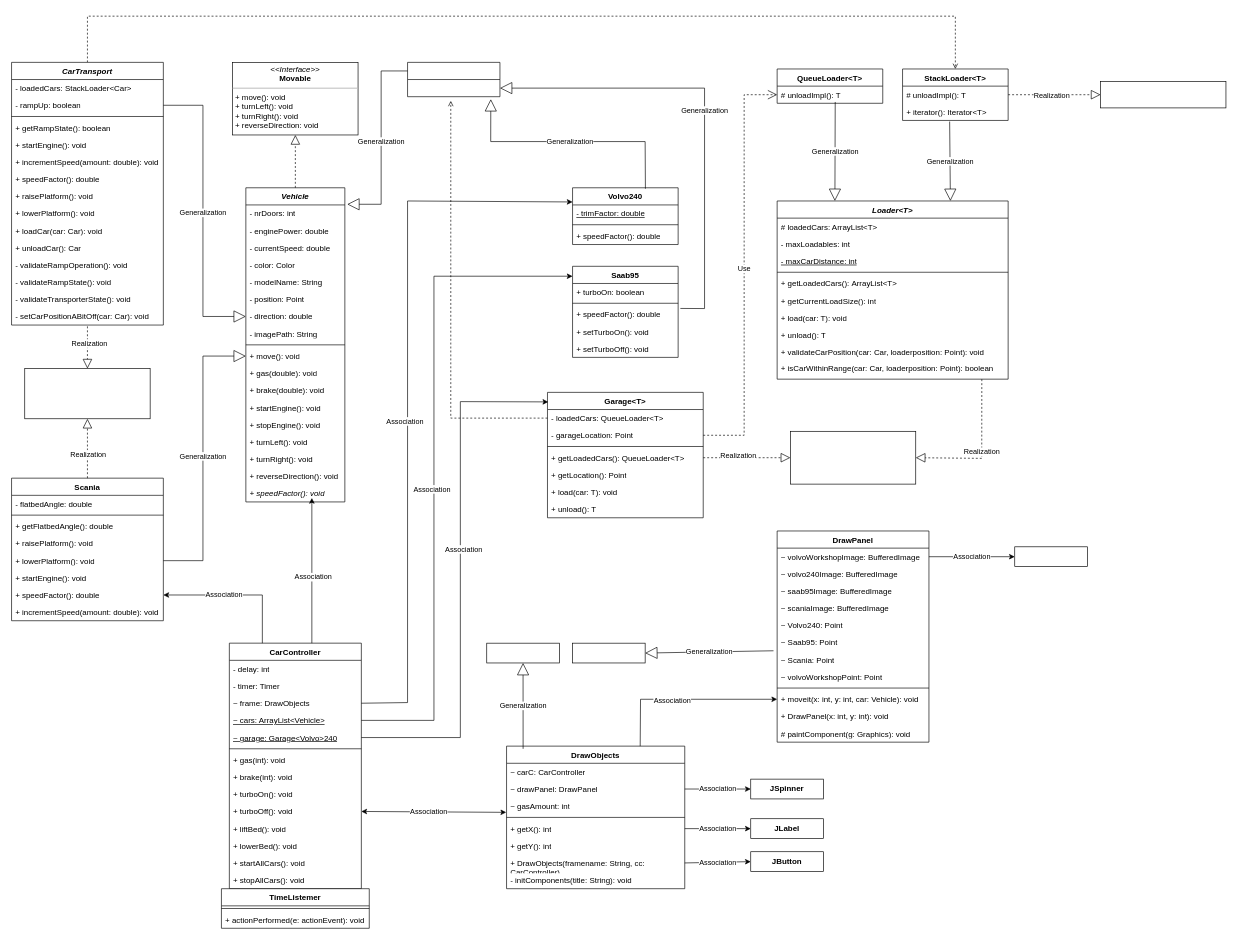
This 1238x942 diagram has some shape labels left out. The shapes that lost their labels are listed below. From the top down, each one's centre as x and y in pixels, then its label:
the point at 453,79: Car
the point at 1163,94: <<Interface>> Iterable<T>
the point at 87,393: <<Interface>> Platform + raisePlatform(): void + lowerPlatform(): void
the point at 853,457: <<Interface>> Loadable<T> + load(car: T): void + unload(): T
the point at 1050,556: BufferedImage
the point at 522,653: JFrame
the point at 608,653: JPanel
